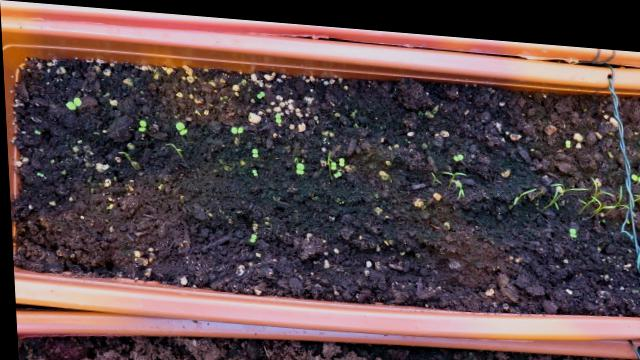weed: (59, 93, 83, 109), (168, 117, 190, 133), (222, 118, 245, 130), (290, 154, 305, 169), (132, 115, 147, 130), (245, 142, 259, 154), (244, 227, 255, 240), (244, 161, 257, 171)
